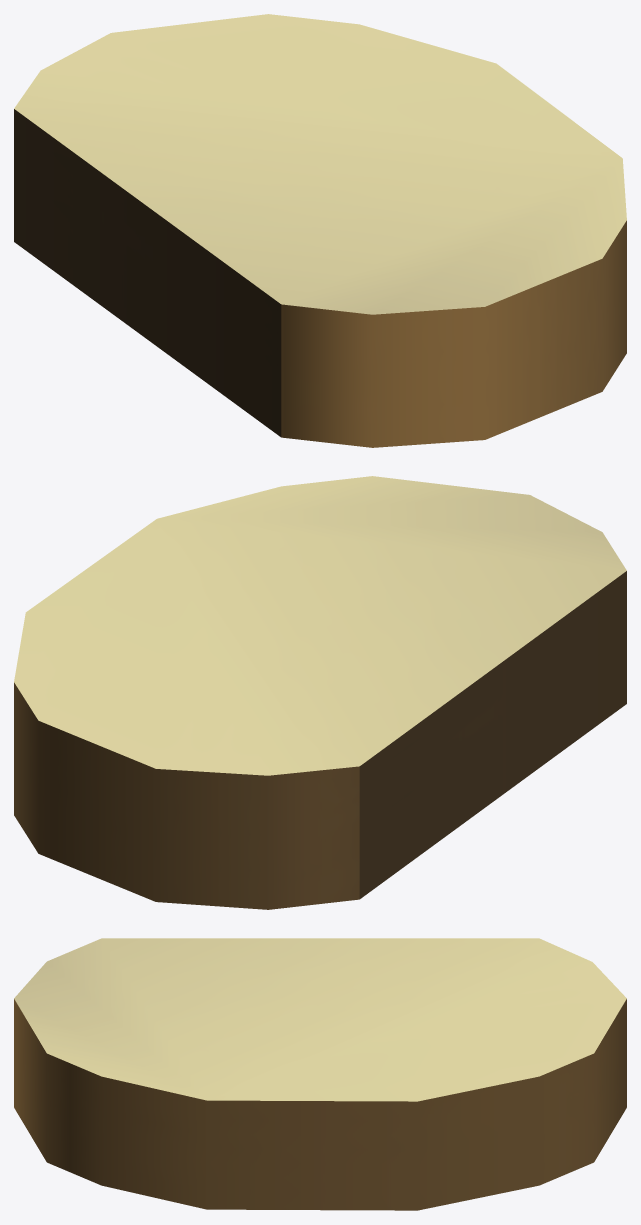
Rendered from bread_slice.fbx.
The picture shows the model from 3 angles, top to bottom: view 1: azimuth 30°, elevation 25°; view 2: azimuth 150°, elevation 25°; view 3: azimuth 270°, elevation 25°; orthographic projection. The views are drawn at different scales.
Visible parts, largest first — view 1: bread_slice; view 2: bread_slice; view 3: bread_slice.
Part boxes in pixels (x1,y1,x2,y2): bread_slice: (14,14,626,447); bread_slice: (14,476,626,909); bread_slice: (14,938,626,1210).
Size of the model in its own units: 17.44 by 5.44 by 27.7.
